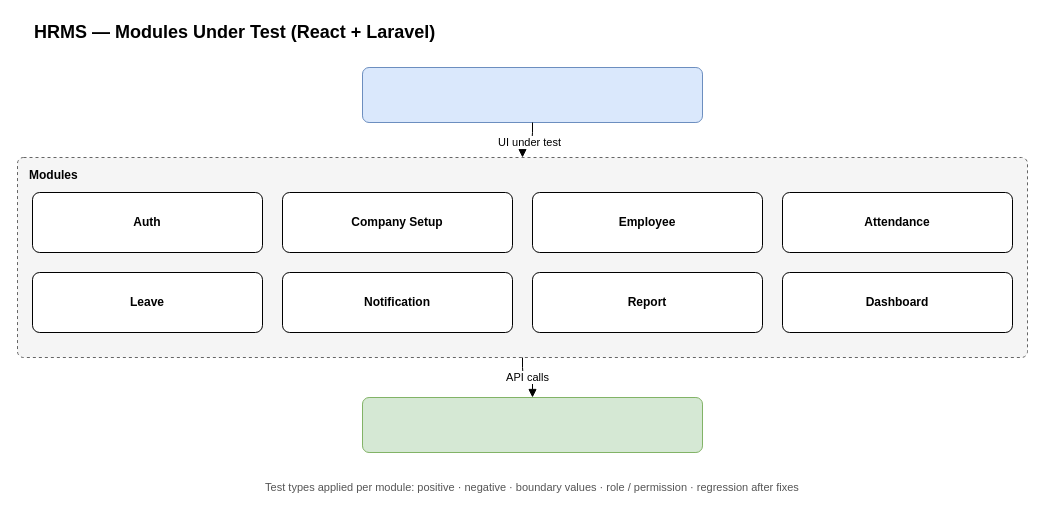
The diagram is 1050 pixels wide and 519 high, and some of its shapes have lost their labels. Each missing label, with the centre of its shape:
"Laravel API controllers per module" belongs at point (532, 424).
"React frontend features · routes · forms" belongs at point (532, 94).
